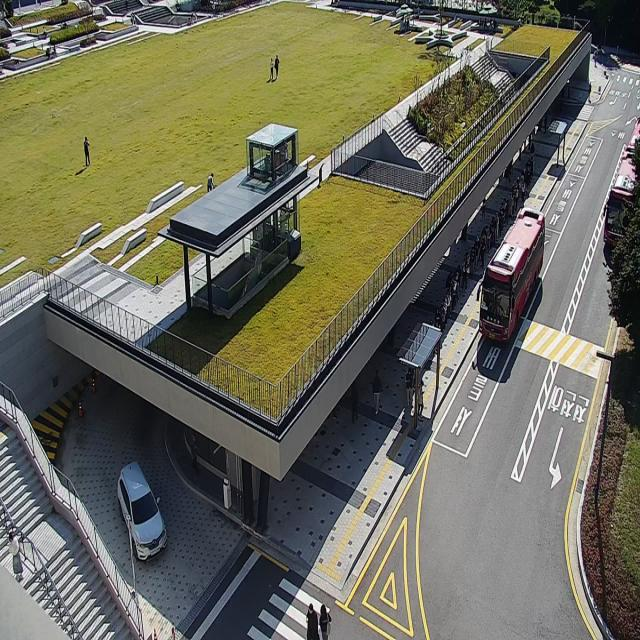queue: (414, 150, 536, 436)
